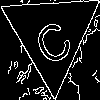C: (26, 10, 76, 69)
